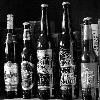beer: (36, 3, 54, 94)
